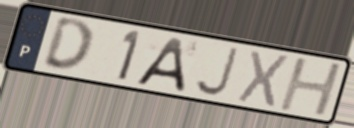1: (116, 29, 142, 84)
A: (132, 35, 187, 94)
D: (39, 17, 94, 75)
H: (276, 56, 346, 119)
J: (192, 45, 241, 98)
X: (234, 48, 293, 111)
